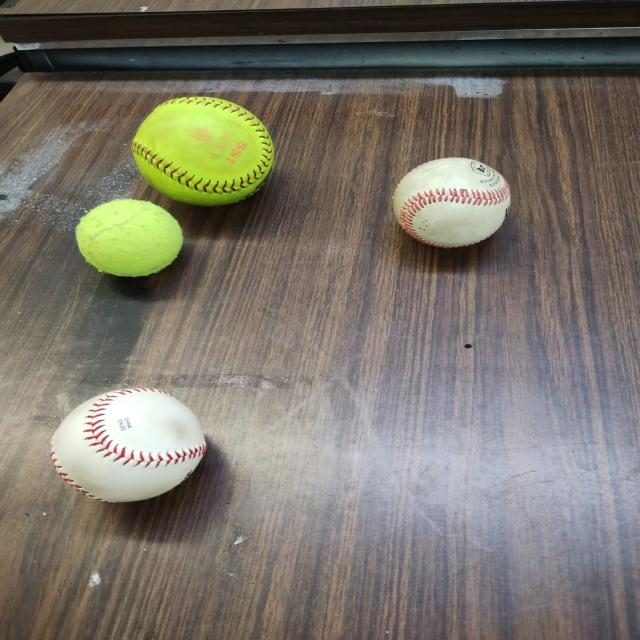beisbol ball: (48, 379, 216, 506), (384, 154, 512, 253)
softball ball: (130, 97, 276, 204)
tenis ball: (74, 197, 185, 277)
